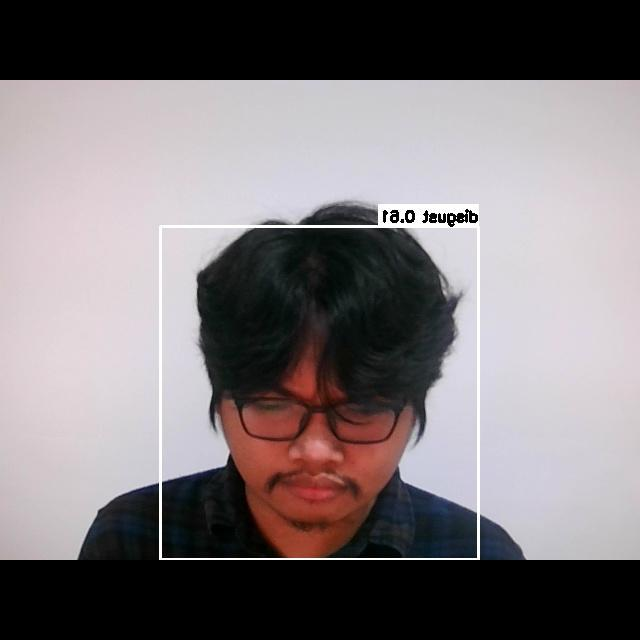Angry: (229, 345, 406, 508)
